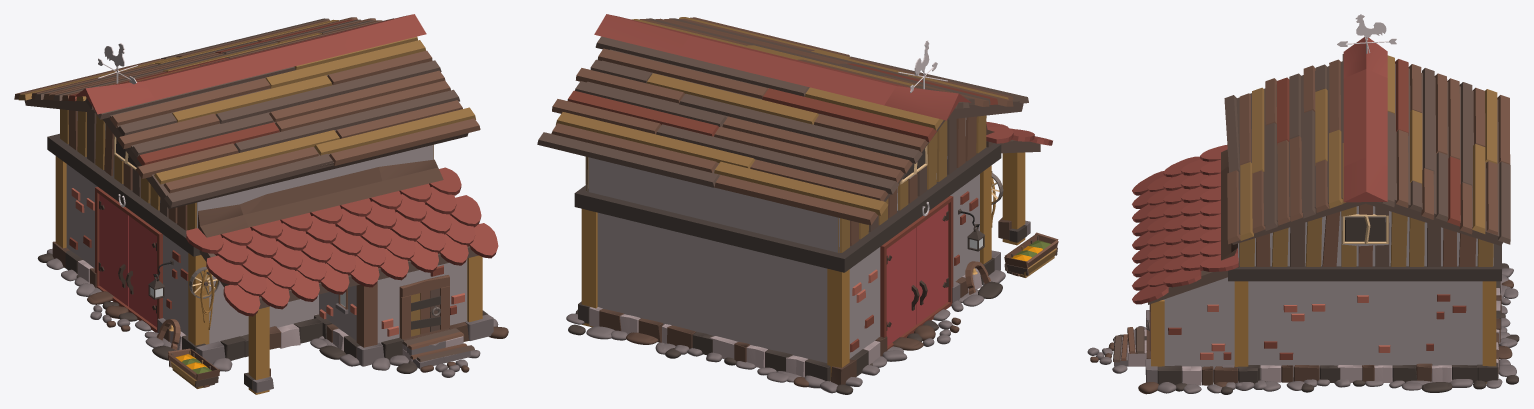
File: Barn.fbx
3 renders of one model, left to right at view 1: azimuth 30°, elevation 25°; view 2: azimuth 150°, elevation 25°; view 3: azimuth 270°, elevation 25°, orthographic. The views are drawn at different scales.
Parts seen in each view (by area): view 1: Barn; view 2: Barn; view 3: Barn.
Part boxes in pixels (x1,y1,x2,y2): Barn: (14,14,508,394); Barn: (537,14,1058,394); Barn: (1087,14,1519,394).
Bounding box in the file's own units: 1393 × 1115 × 1691.
